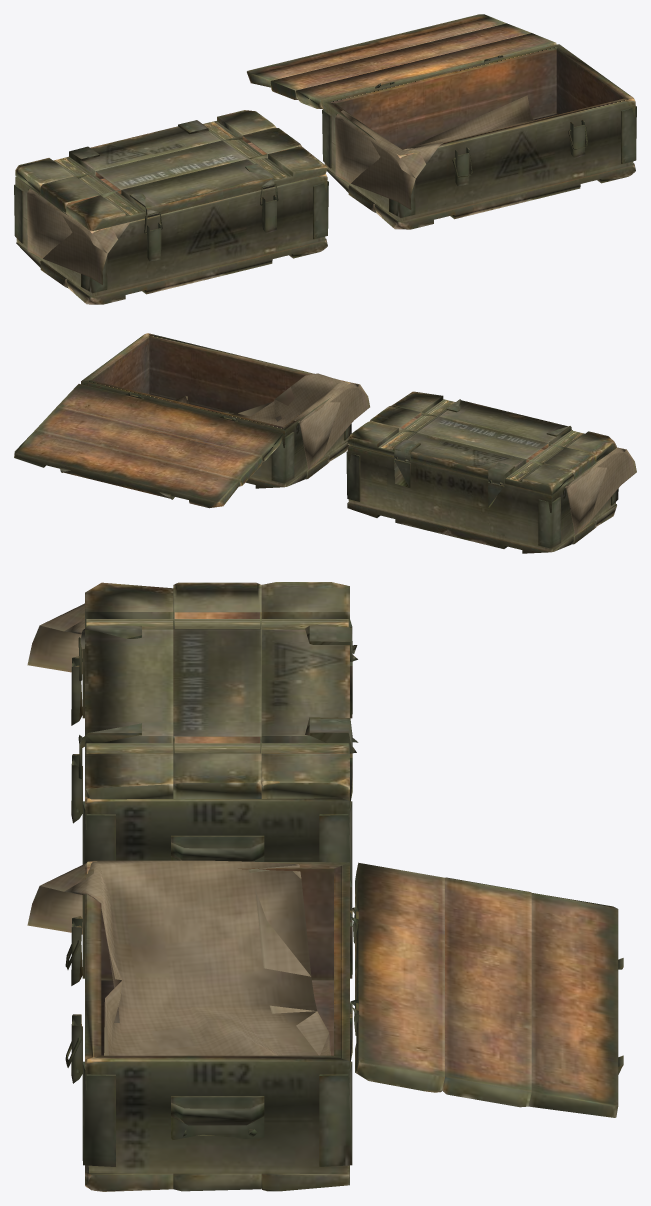
The model's file is old_military_crate.glb.
3 renders of one model, top to bottom at view 1: azimuth 30°, elevation 25°; view 2: azimuth 150°, elevation 25°; view 3: azimuth 270°, elevation 25°, orthographic. The views are drawn at different scales.
Parts seen in each view (by area): view 1: old_military_crate_b, old_military_crate_lid_a, old_military_crate_a, old_military_crate_lid_b, old_military_crate_cloth_b, old_military_crate_cloth_a, old_military_crate_latch_a, old_military_crate_latch_b; view 2: old_military_crate_lid_b, old_military_crate_lid_a, old_military_crate_a, old_military_crate_b, old_military_crate_cloth_b, old_military_crate_cloth_a; view 3: old_military_crate_lid_a, old_military_crate_lid_b, old_military_crate_b, old_military_crate_cloth_b, old_military_crate_a, old_military_crate_cloth_a, old_military_crate_latch_b, old_military_crate_latch_a.
Part boxes in pixels (x1,y1,x2,y2): old_military_crate_b: (322, 44, 636, 229); old_military_crate_lid_a: (15, 110, 327, 230); old_military_crate_a: (14, 173, 328, 304); old_military_crate_lid_b: (247, 14, 556, 109); old_military_crate_cloth_b: (335, 95, 534, 209); old_military_crate_cloth_a: (27, 188, 129, 284); old_military_crate_latch_a: (147, 195, 276, 261); old_military_crate_latch_b: (455, 120, 585, 186); old_military_crate_lid_b: (14, 384, 283, 508); old_military_crate_lid_a: (347, 391, 616, 494); old_military_crate_a: (346, 445, 618, 553); old_military_crate_b: (81, 333, 351, 488); old_military_crate_cloth_b: (174, 373, 369, 469); old_military_crate_cloth_a: (565, 447, 636, 534); old_military_crate_lid_a: (80, 582, 358, 799); old_military_crate_lid_b: (350, 862, 623, 1117); old_military_crate_b: (82, 861, 352, 1191); old_military_crate_cloth_b: (27, 860, 330, 1055); old_military_crate_a: (82, 620, 352, 885); old_military_crate_cloth_a: (27, 603, 84, 673); old_military_crate_latch_b: (71, 916, 82, 1083); old_military_crate_latch_a: (71, 656, 82, 823).
Bounding box in the file's own units: 1.81 × 0.2734 × 0.9677.
1 material, 1 textured.
